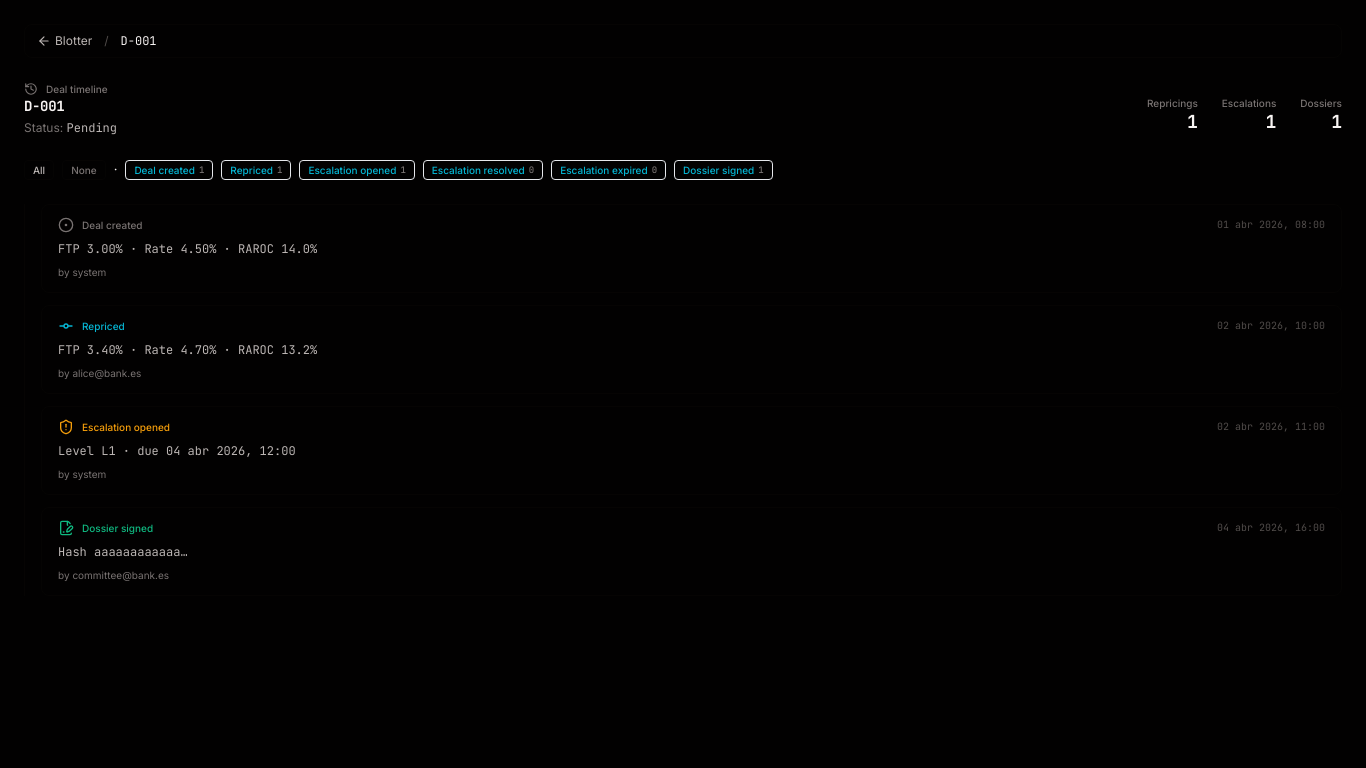
Test: DealTimelineView › shows "all filtered out" message after clicking None
Expected: the text "D-001" is shown, [120, 33, 156, 49]
Click the button "None" at coordinates (84, 170), box [62, 160, 106, 180]
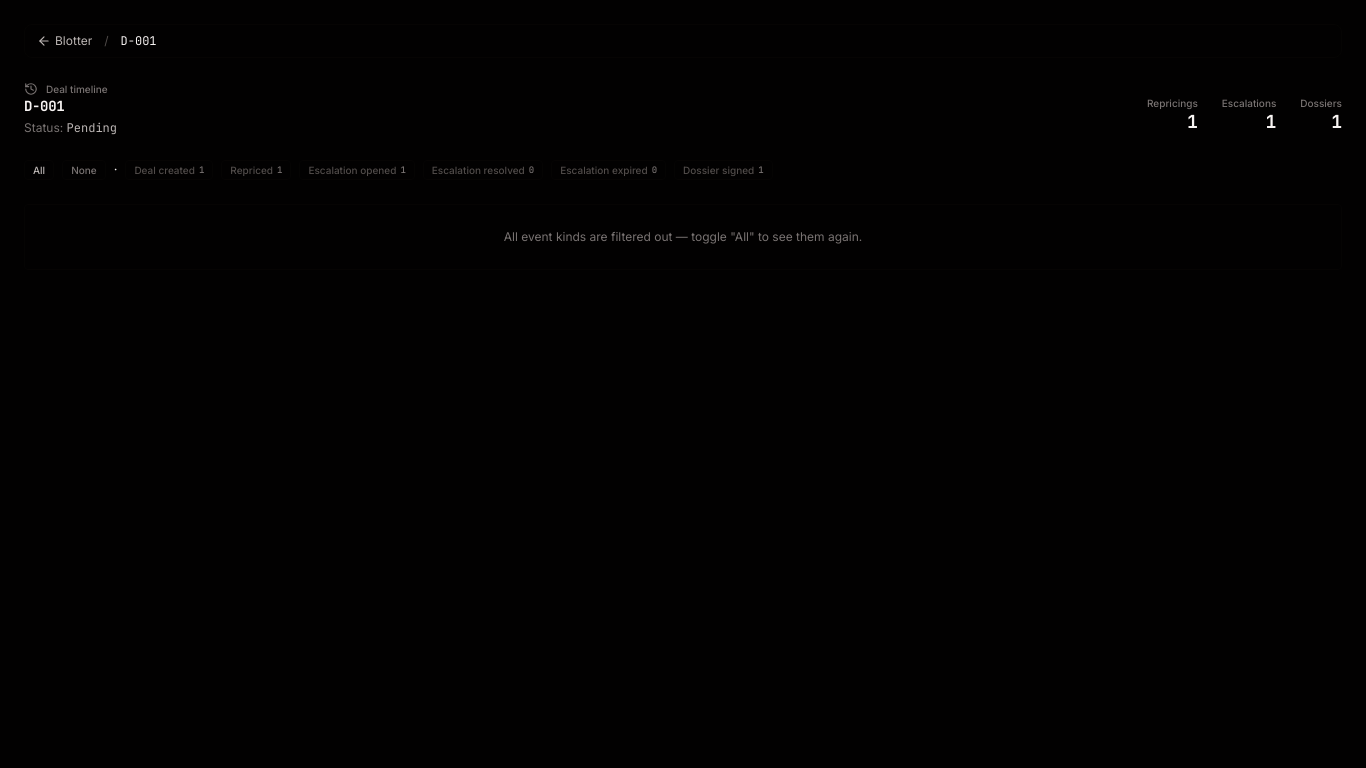
Expected: the text "All event kinds are filtered out" is shown, [504, 229, 862, 244]
